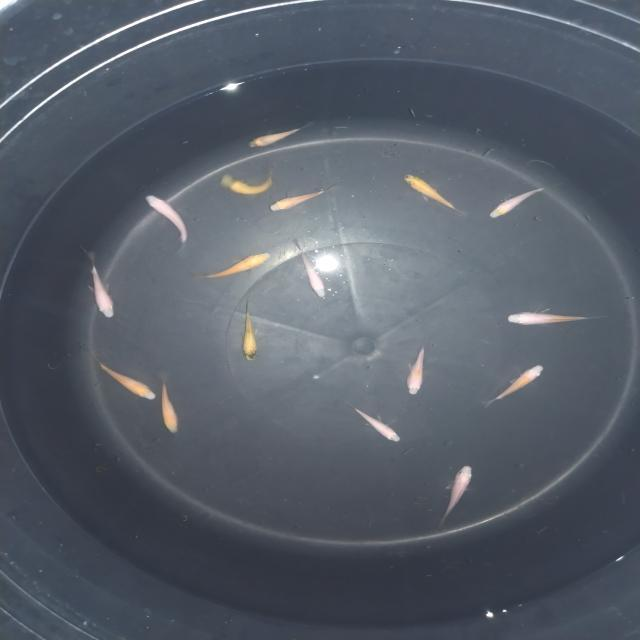nila: (86, 354, 160, 402), (488, 180, 567, 222), (140, 192, 193, 254), (78, 244, 121, 320), (401, 173, 470, 219), (188, 252, 274, 286), (480, 364, 546, 408), (342, 400, 404, 446), (290, 236, 330, 304), (266, 184, 341, 214), (440, 464, 475, 528), (217, 162, 277, 196), (503, 310, 613, 328), (246, 122, 314, 150), (237, 296, 260, 365), (158, 374, 182, 438), (404, 337, 428, 398)
